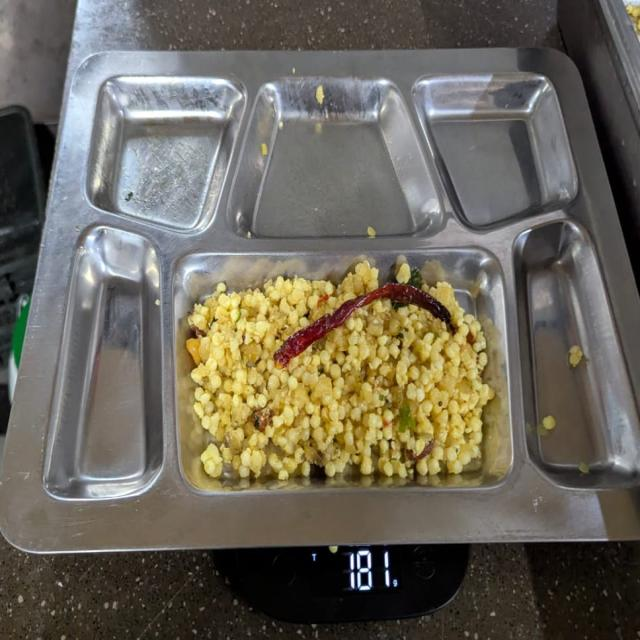Khichdi: (184, 263, 494, 482)
